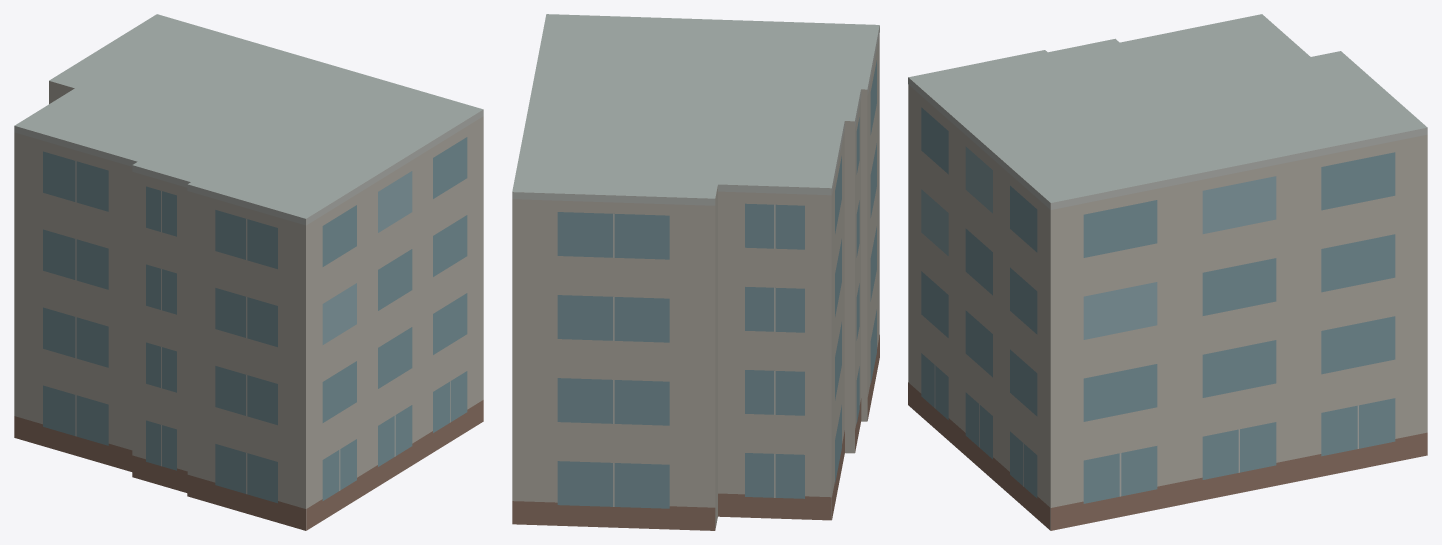
The model's file is survey-upis-32919252.glb.
3 renders of one model, left to right at view 1: azimuth 30°, elevation 25°; view 2: azimuth 150°, elevation 25°; view 3: azimuth 270°, elevation 25°, orthographic. The views are drawn at different scales.
Parts seen in each view (by area): view 1: survey-upis-32919252.tmp; view 2: survey-upis-32919252.tmp; view 3: survey-upis-32919252.tmp.
Part boxes in pixels (box(x1,y1,x2,y2)): survey-upis-32919252.tmp: box(14, 14, 483, 530); survey-upis-32919252.tmp: box(512, 14, 879, 530); survey-upis-32919252.tmp: box(908, 14, 1427, 530).
Size of the model in its own units: 14.11 by 11.4 by 16.38.
